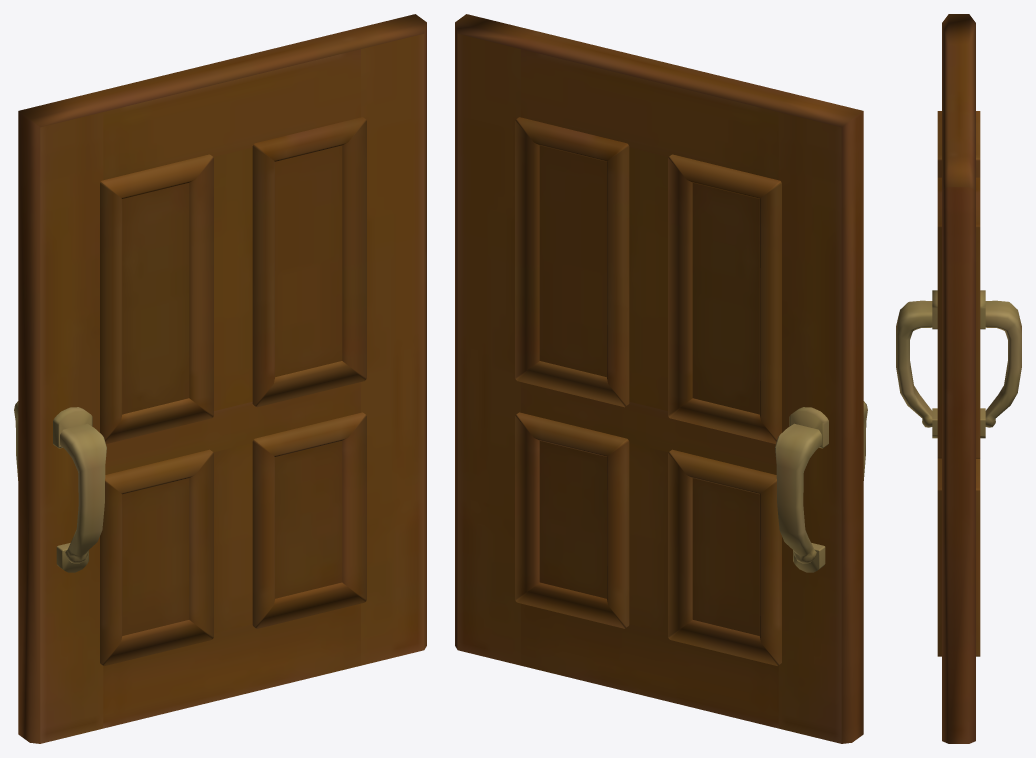
The model's file is door-relief-s.glb.
3 views of the same model, side by side, from view 1: azimuth 30°, elevation 25°; view 2: azimuth 150°, elevation 25°; view 3: azimuth 270°, elevation 25° (orthographic). The views are drawn at different scales.
Size of the model in its own units: 12 by 18 by 3.69.
1 material, 1 textured.
